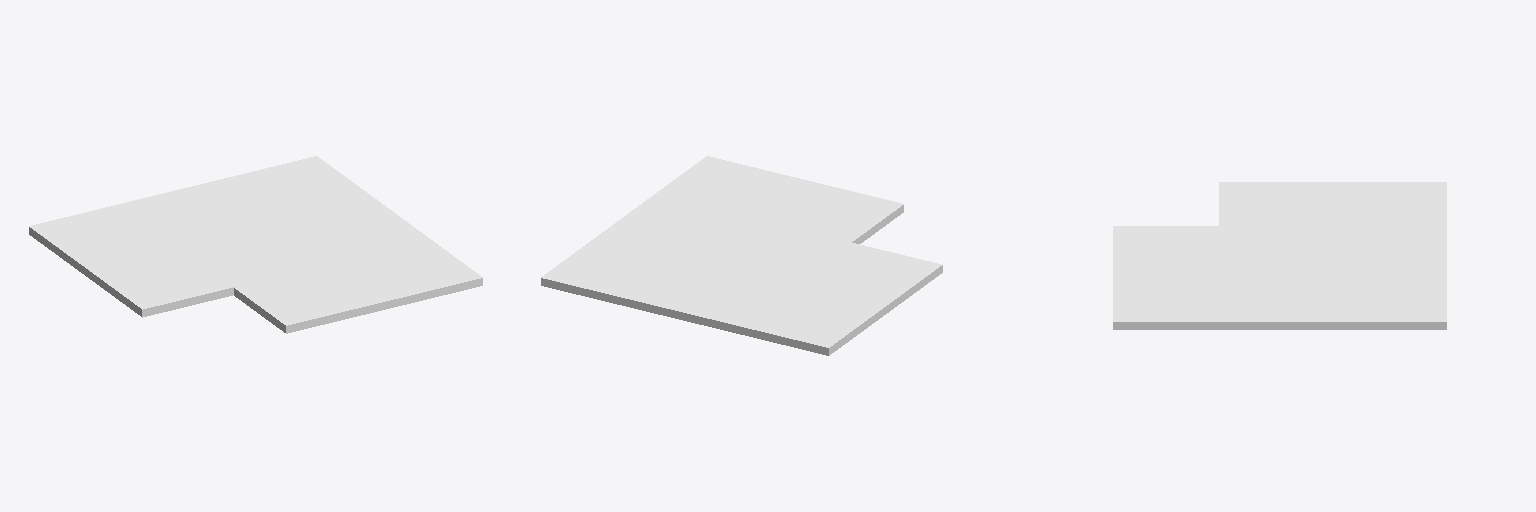
File: AngleRoads.obj
3 views of the same model, side by side, from view 1: azimuth 30°, elevation 25°; view 2: azimuth 150°, elevation 25°; view 3: azimuth 270°, elevation 25° (orthographic).
Bounding box in the file's own units: 38 × 1 × 38.